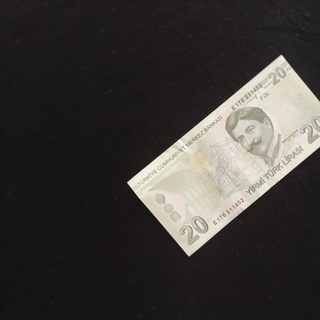20TLBack: (126, 54, 320, 257)
